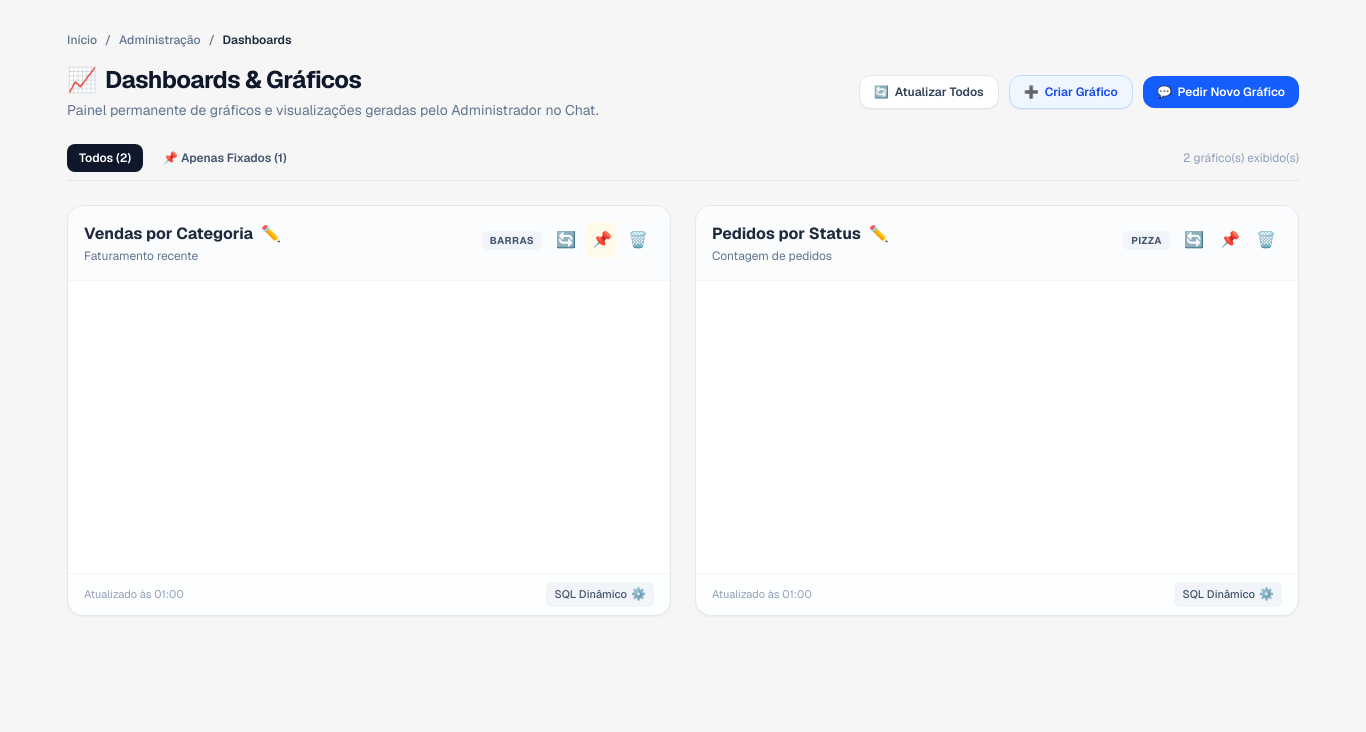
it: AdminDashboardsPage › abre modal de criação e adiciona novo gráfico na lista
The image size is (1366, 732).
Check: the heading "Vendas por Categoria" is shown, box [84,222,253,246]
Click the button "➕ Criar Gráfico" at (1071, 92), box [1009,75,1133,109]
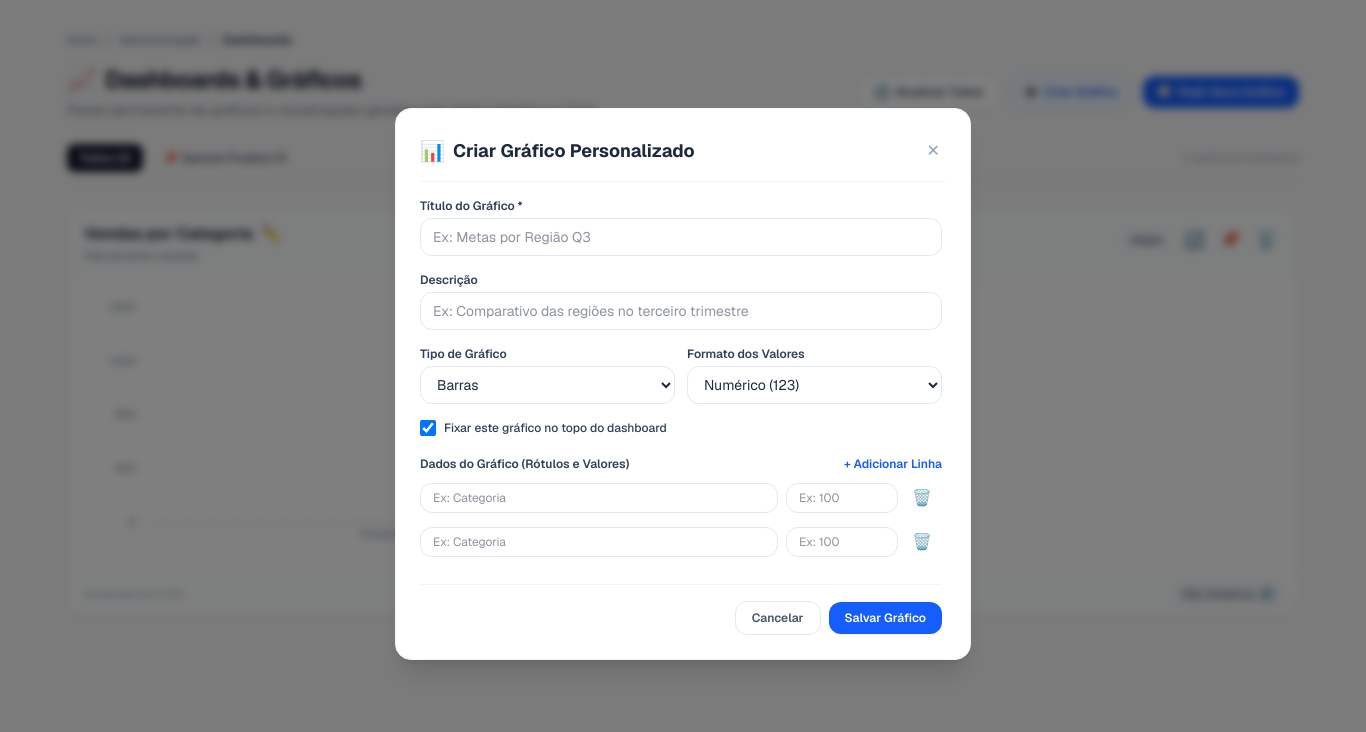
Check: the heading "Criar Gráfico Personalizado" is shown, box [453,137,695,165]
Type "Novo Gráfico Manual" into the field labelled "Título do Gráfico *" at (681, 237), box [420,218,942,256]
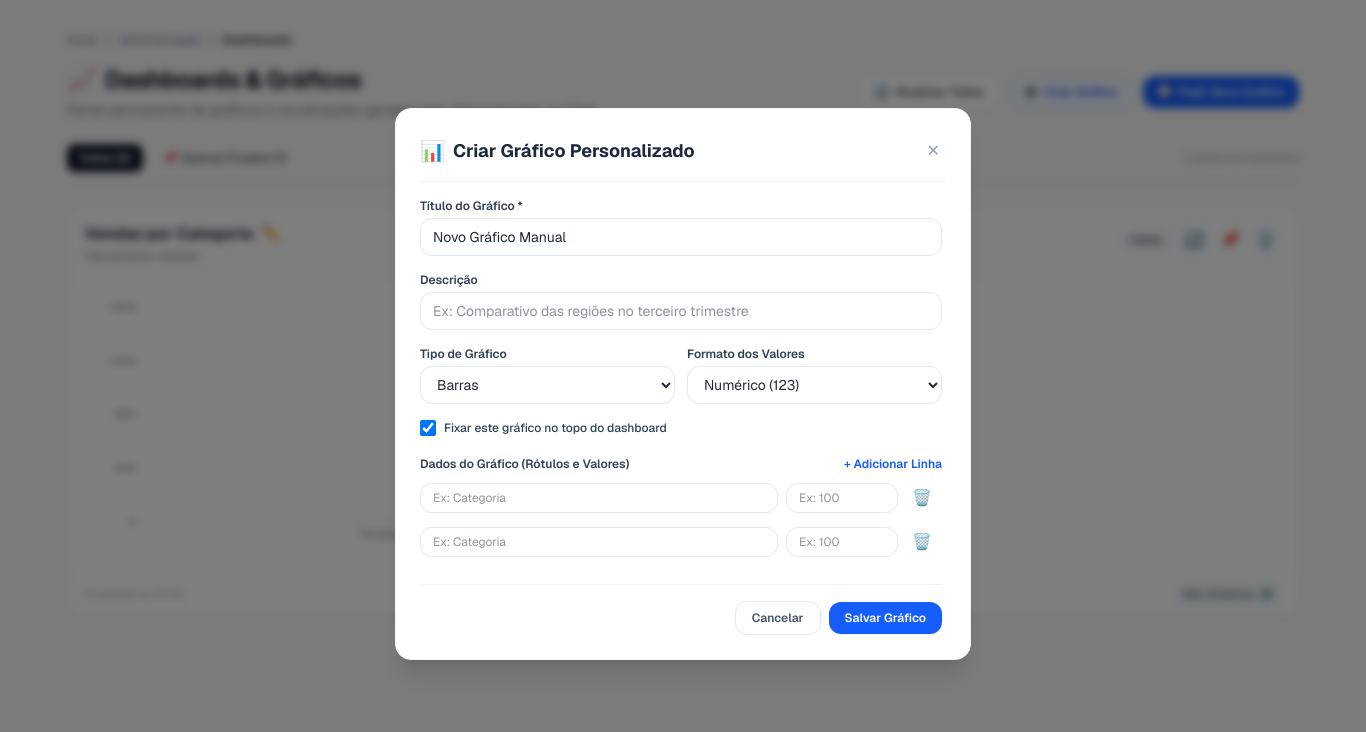
Type "Cat 1" into the 1st field with placeholder "Ex: Categoria" at (599, 498), box [420,483,778,513]
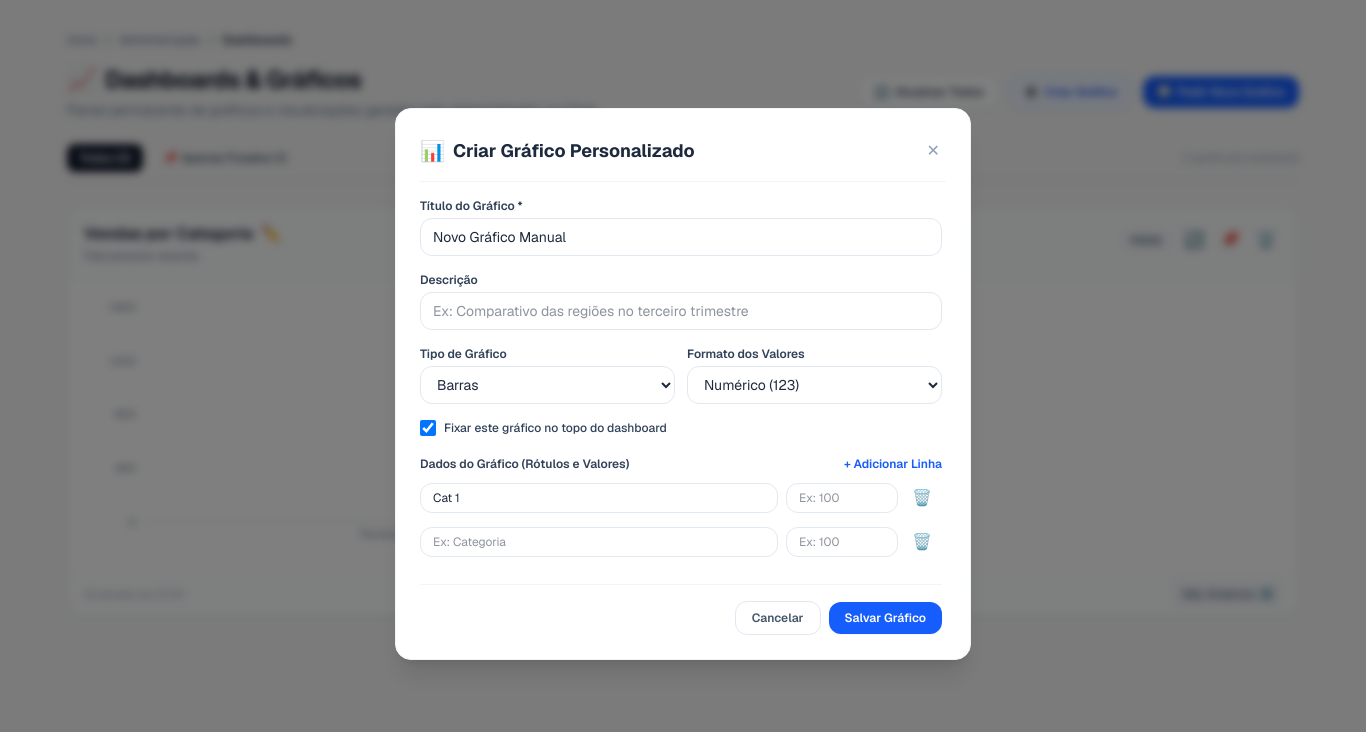
Type "50" into the 1st field with placeholder "Ex: 100" at (842, 498), box [786,483,898,513]
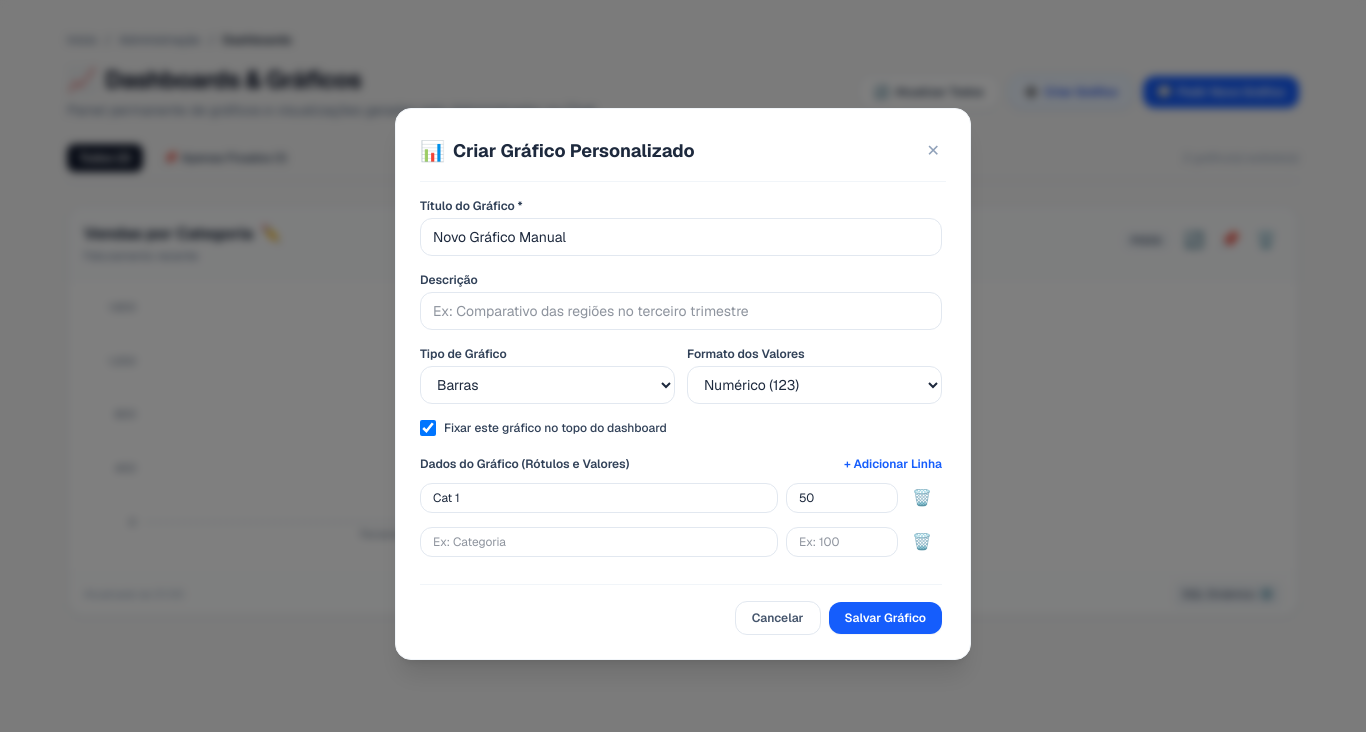
Click the button "Salvar Gráfico" at (885, 618), box [828,602,942,634]
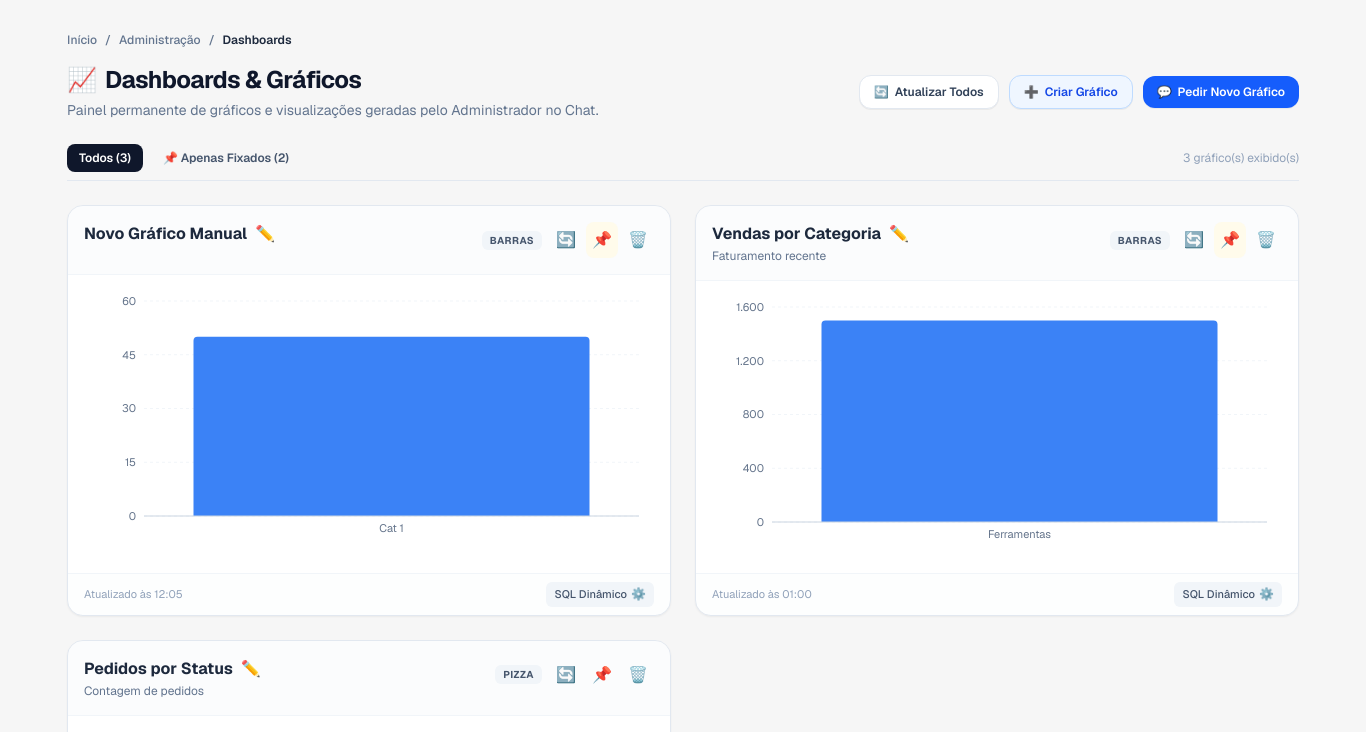
Check: the heading "Novo Gráfico Manual" is shown, box [84,222,247,246]
